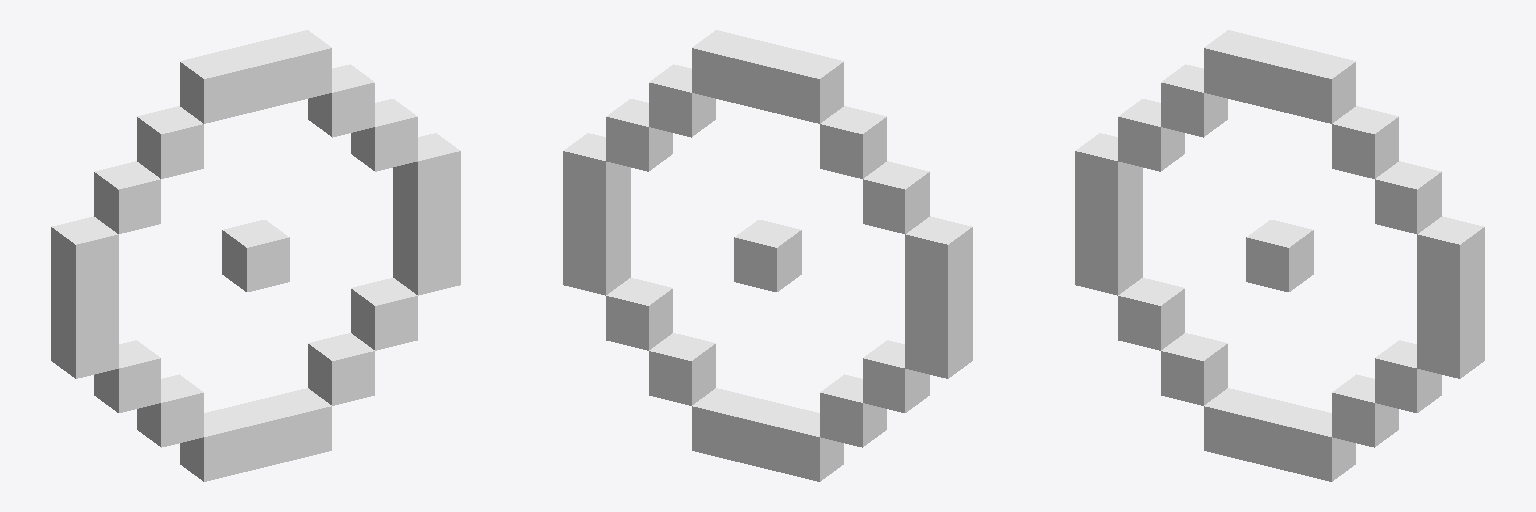
The model's file is Gage.obj.
3 renders of one model, left to right at view 1: azimuth 30°, elevation 25°; view 2: azimuth 150°, elevation 25°; view 3: azimuth 330°, elevation 25°, orthographic.
Bounding box in the file's own units: 9 × 9 × 1.